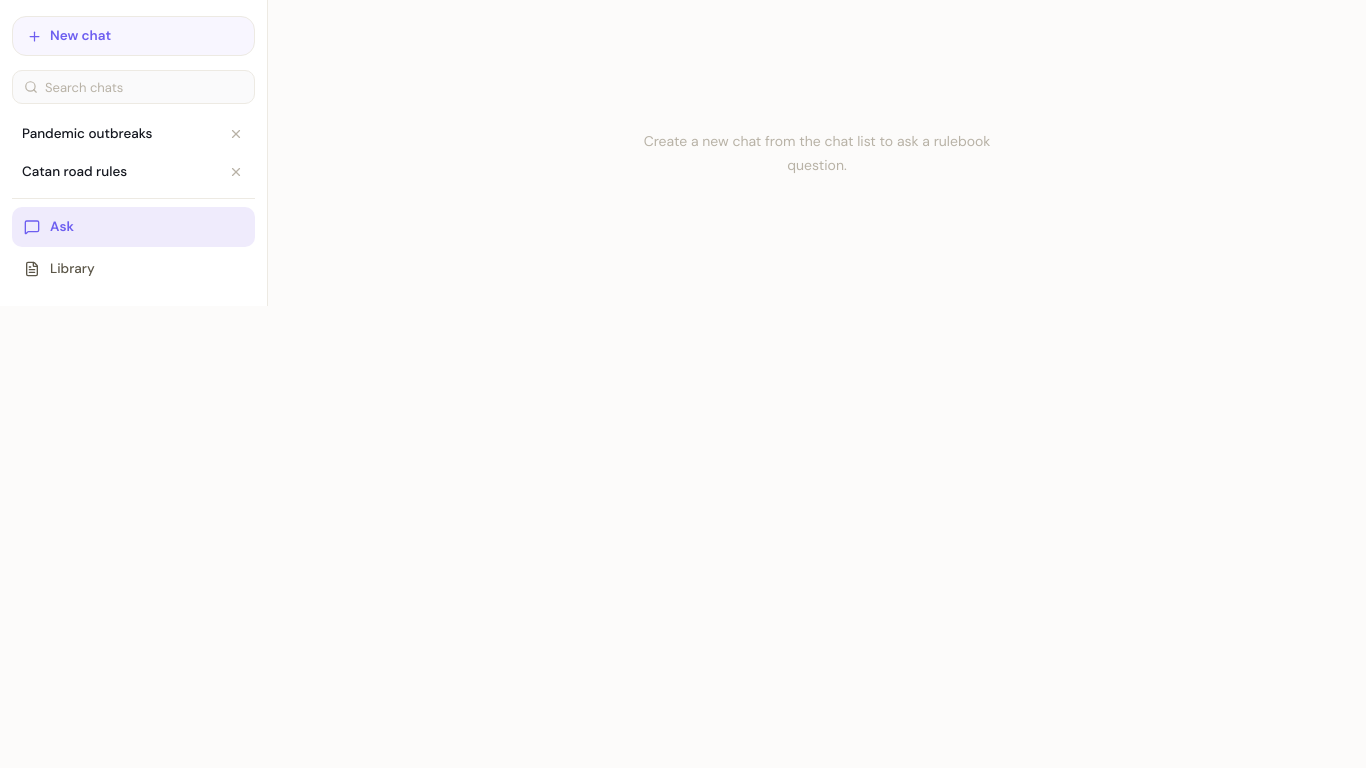
Test: ChatPage › loads chat titles without selecting one until it is clicked
The image size is (1366, 768).
Expected: the text "Pandemic outbreaks" is shown, [22,125,152,142]
Expected: the text "Catan road rules" is shown, [22,163,127,180]
Click the button with test id "chat-select-conversation-2-btn" at (134, 134), box [12,116,255,152]
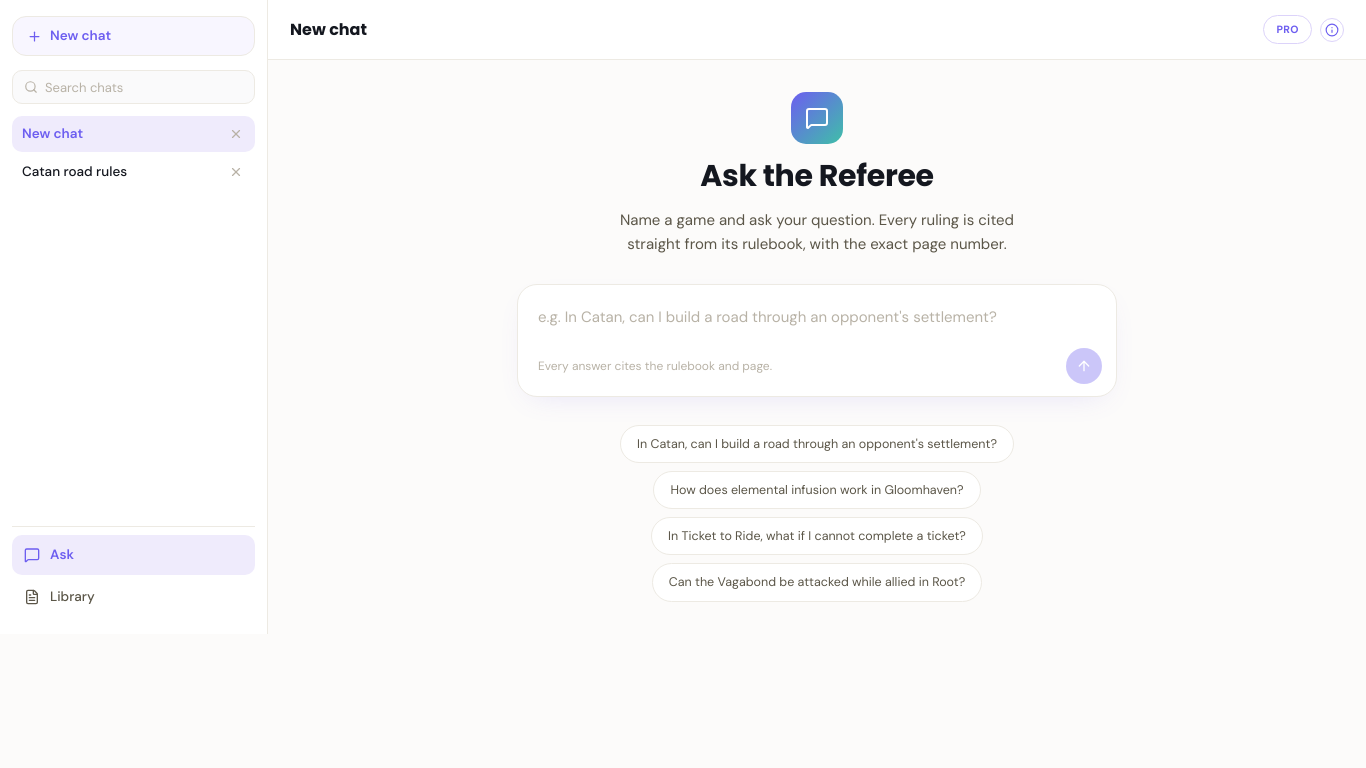
Expected: the heading "Ask the Referee" is shown, [700,158,934,196]
Expected: the text box named "Ask a rules question" is shown, [532,298,1102,334]
